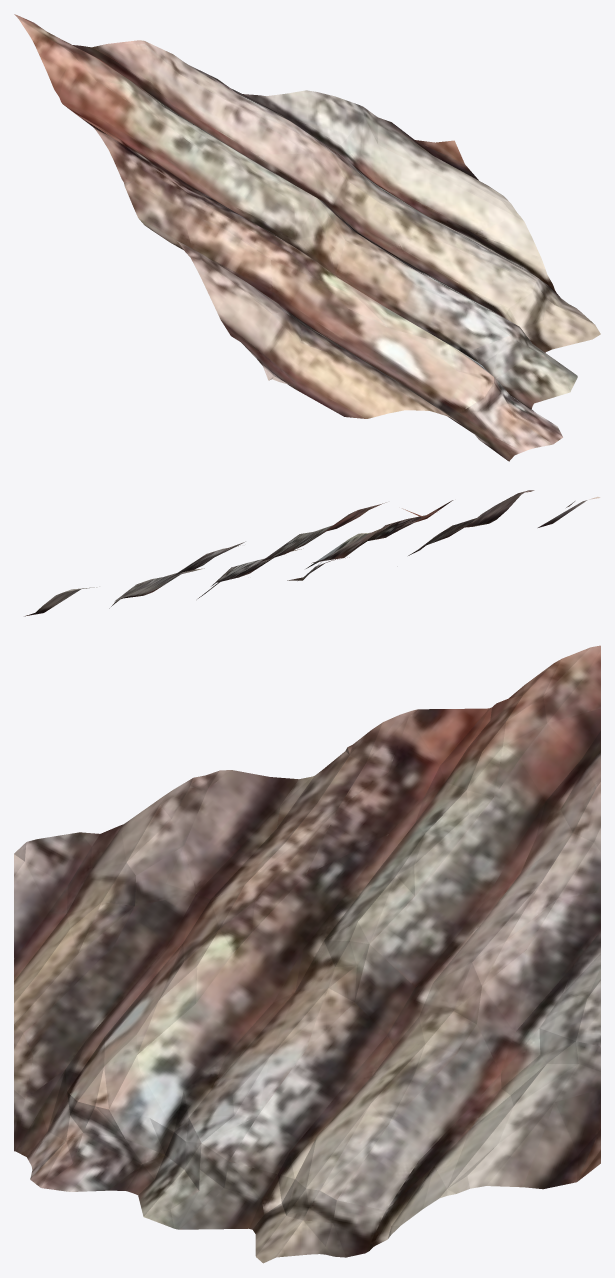
3 renders of one model, top to bottom at view 1: azimuth 30°, elevation 25°; view 2: azimuth 150°, elevation 25°; view 3: azimuth 270°, elevation 25°, orthographic. The views are drawn at different scales.
Bounding box in the file's own units: 0.8373 × 0.5823 × 0.8373.
Materials: 3 (3 with a texture image).
